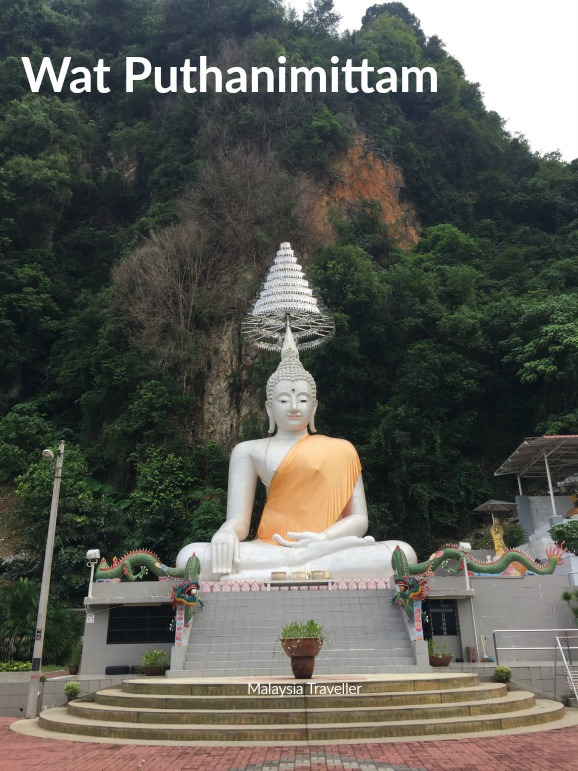Buddhist Temple: (165, 268, 406, 663)
